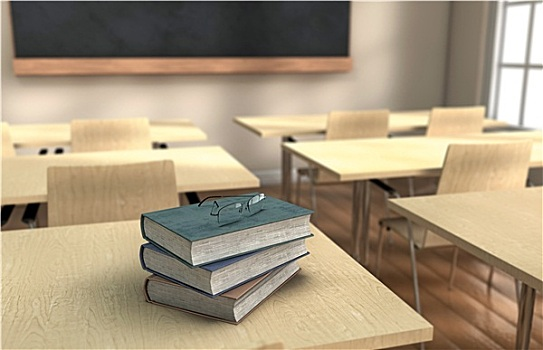book: (136, 190, 316, 270), (136, 280, 307, 324)
